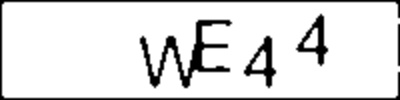4: (242, 32, 282, 89), (295, 8, 330, 69)
E: (193, 12, 234, 75)
W: (134, 36, 205, 90)
